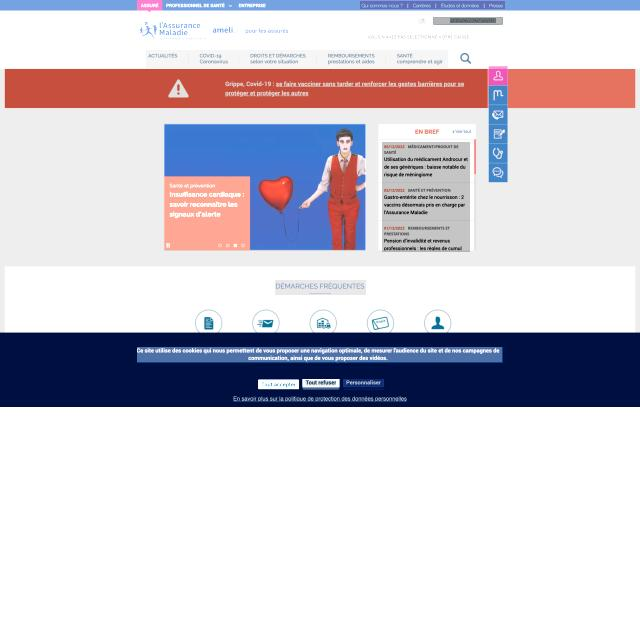CheckBox: (433, 17, 503, 25), (342, 380, 384, 390), (258, 379, 299, 389), (302, 380, 340, 390), (472, 33, 503, 40), (414, 17, 430, 25)
Input field: (137, 348, 503, 363)
ProgressBar: (5, 68, 487, 108)
QR code: (382, 142, 470, 252)
alert: (165, 2, 234, 9)
bag: (0, 0, 640, 69)
breadcrumbs: (275, 280, 366, 295)
card: (164, 124, 366, 250)
carousel: (460, 52, 472, 66), (439, 18, 448, 24), (418, 18, 426, 24)
data feed: (261, 380, 297, 389), (346, 381, 382, 388), (450, 18, 496, 23), (305, 382, 336, 388), (479, 34, 496, 39)
date picker: (136, 18, 208, 42)
decoration: (146, 50, 448, 68), (488, 65, 508, 183), (360, 1, 505, 9)
header: (0, 332, 640, 407)
